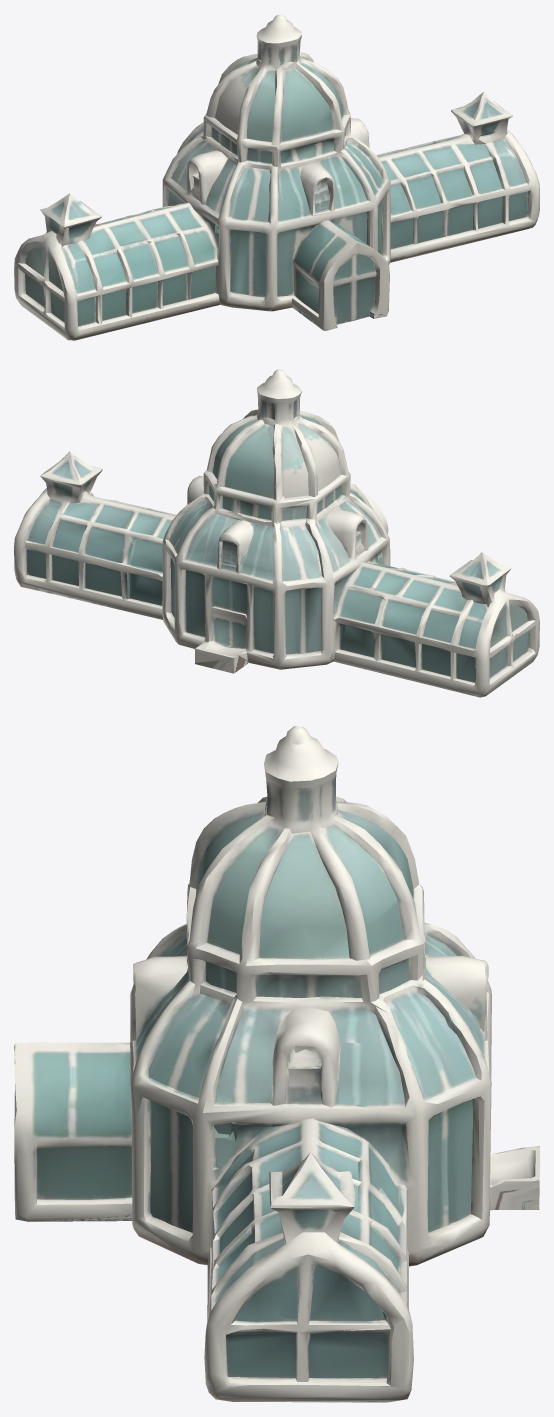
The model's file is conservatory.glb.
3 views of the same model, one above another, from view 1: azimuth 30°, elevation 25°; view 2: azimuth 150°, elevation 25°; view 3: azimuth 270°, elevation 25° (orthographic). The views are drawn at different scales.
Visible parts, largest first — view 1: conservatory; view 2: conservatory; view 3: conservatory.
Part boxes in pixels (x1,y1,x2,y2): conservatory: (14,14,539,340); conservatory: (14,369,539,697); conservatory: (14,726,539,1402).
Bounding box in the file's own units: 11.77 × 6 × 6.13.
1 material, 1 textured.
